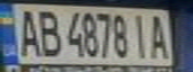4: (60, 8, 84, 57)
7: (96, 9, 115, 58)
8: (78, 8, 100, 59), (112, 10, 133, 60)
A: (12, 6, 42, 57), (145, 11, 172, 60)
B: (33, 7, 63, 57)
I: (127, 10, 151, 60)
